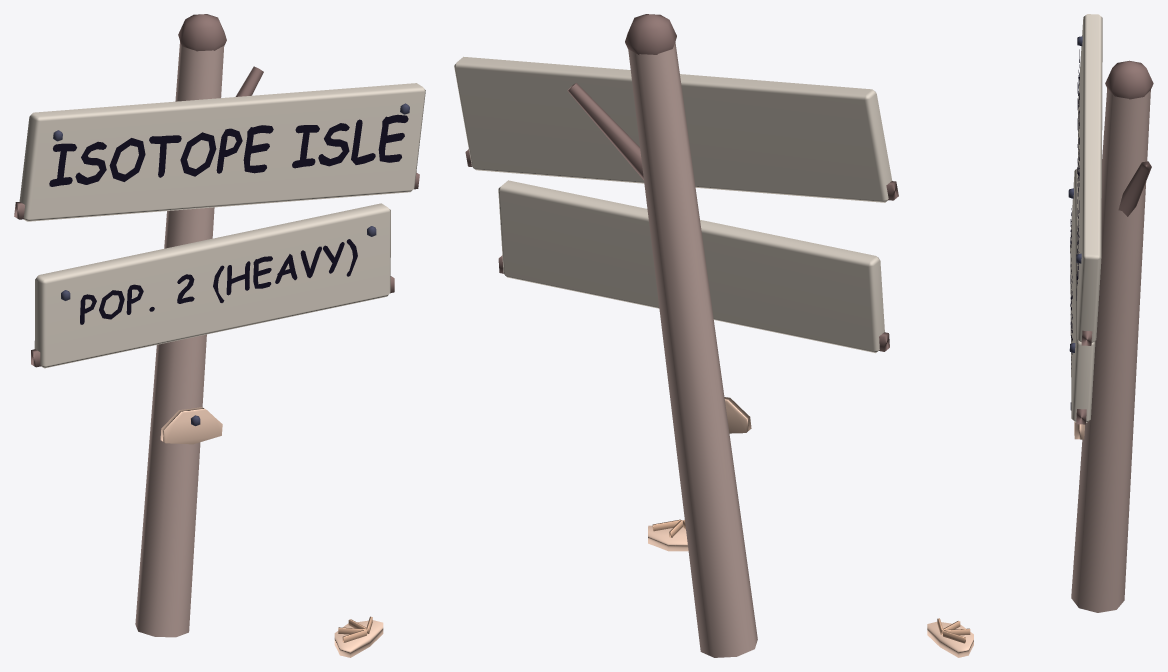
The model's file is isle_sign.glb.
The picture shows the model from 3 angles, left to right: view 1: azimuth 30°, elevation 25°; view 2: azimuth 150°, elevation 25°; view 3: azimuth 270°, elevation 25°; orthographic projection. The views are drawn at different scales.
Visible parts, largest first — view 1: Sign; view 2: Sign; view 3: Sign.
Part boxes in pixels (<box>): Sign: <box>14,14,425,657</box>; Sign: <box>454,14,898,657</box>; Sign: <box>927,14,1153,657</box>.
Size of the model in its own units: 0.9313 by 1.29 by 0.4659.
